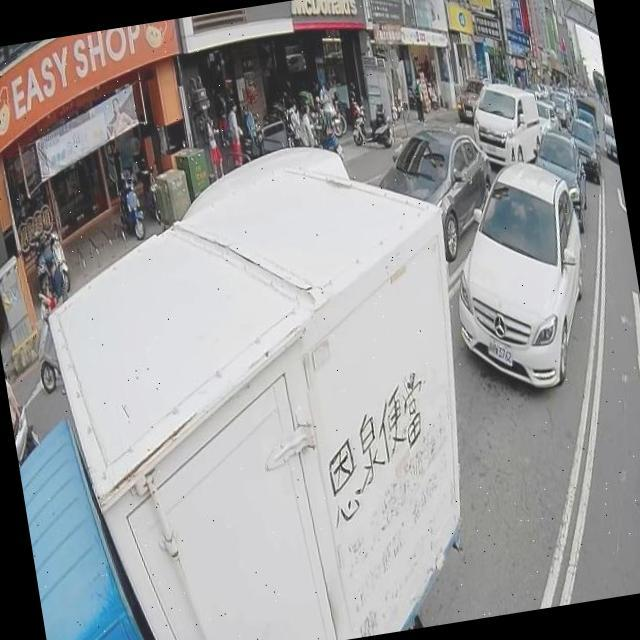person: (0, 345, 32, 467), (33, 242, 71, 310), (202, 104, 228, 180), (221, 101, 247, 170), (215, 92, 232, 152), (296, 102, 318, 148), (108, 133, 127, 186), (316, 82, 335, 131), (284, 103, 304, 148), (412, 77, 426, 125)
